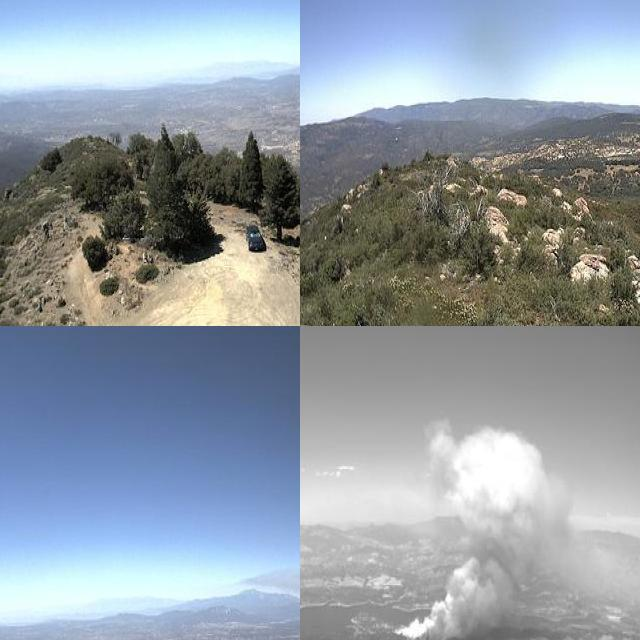smoke: (393, 410, 577, 640), (238, 553, 300, 623)
